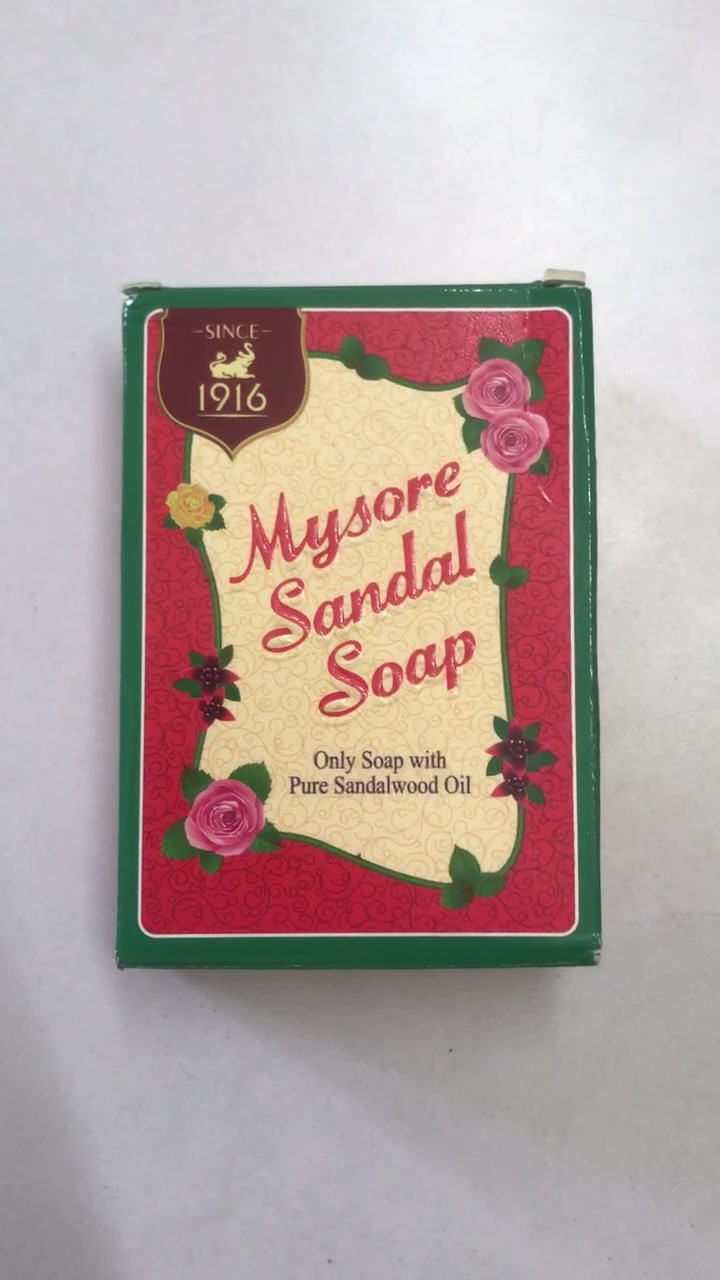mysore sandal soap: (112, 287, 598, 963)
